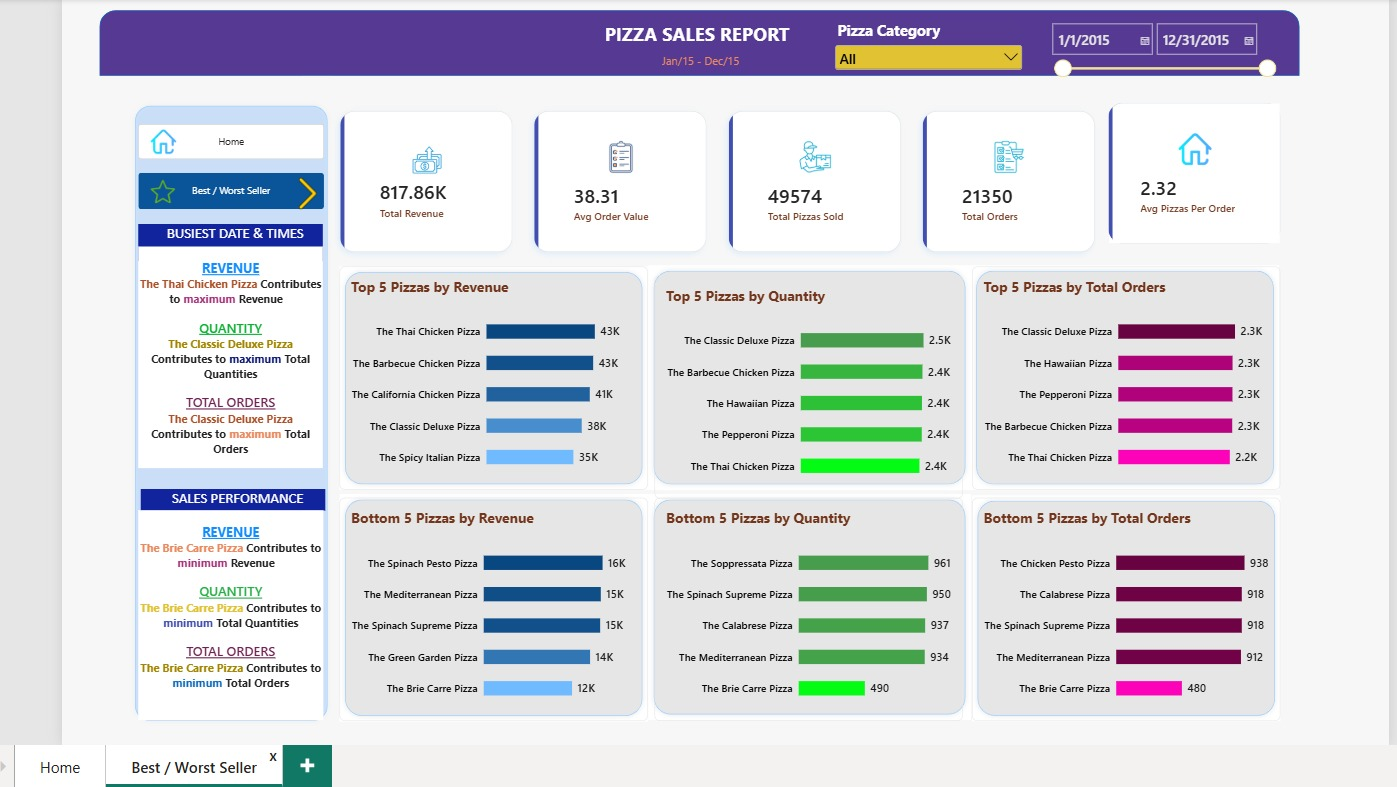

What the dashboard file says about the page in this screenshot:
{"tool":"powerbi","page":{"name":"Best / Worst Seller","canvas":[1920,1080],"ordinal":1},"visuals":[{"type":"cardVisual","fields":{"Data":["pizza_sales.Total Revenue","pizza_sales.Average Order Value","pizza_sales.Total Pizzas Sold","pizza_sales.Total Orders","pizza_sales.Average Pizzas Per Order"]},"box":[390.9,150.2,1398.3,228.8],"z":0},{"type":"shape","box":[54.2,16.9,1737.3,94.9],"z":1000},{"type":"textbox","box":[781.4,32.2,288.1,59.3],"z":2000},{"type":"textbox","box":[867.8,78,201.7,69.5],"z":3000},{"type":"shape","box":[1315.3,384.9,446.7,325.2],"z":10000},{"type":"shape","box":[98.3,147.5,294.9,906.8],"z":14000},{"type":"textbox","box":[111.1,325.2,267.6,53.5],"z":15000},{"type":"textbox","box":[111.1,358.1,267.6,321.1],"z":16000},{"type":"textbox","box":[113.2,710.1,267.6,30.9],"z":17000},{"type":"textbox","box":[111.1,741,267.8,304],"z":18000},{"type":"slicer","fields":{"Values":["pizza_sales.pizza_category"]},"box":[1115.6,30.9,279.9,94.7],"z":19000},{"type":"slicer","fields":{"Values":["pizza_sales.order_date"]},"box":[1426.4,30.9,335.5,94.7],"z":20000},{"type":"shape","box":[848,384.9,467.2,325.2],"z":20001},{"type":"shape","box":[401.4,387,446.7,323.2],"z":20002},{"type":"shape","box":[401.4,716.3,446.7,329.3],"z":20003},{"type":"shape","box":[848,716.3,467.2,327.3],"z":20004},{"type":"shape","box":[1317.3,718.4,446.7,327.3],"z":20005},{"type":"barChart","title":"Top 5 Pizzas by Revenue","fields":{"Category":["pizza_sales.pizza_name"],"Y":["pizza_sales.Total Revenue"]},"box":[401.4,387,446.7,323.2],"z":20006},{"type":"barChart","title":"Bottom 5 Pizzas by Revenue","fields":{"Category":["pizza_sales.pizza_name"],"Y":["pizza_sales.Total Revenue"]},"box":[401.4,722.5,446.7,323.2],"z":20007},{"type":"barChart","title":"Top 5 Pizzas by Quantity","fields":{"Category":["pizza_sales.pizza_name"],"Y":["pizza_sales.Total Pizzas Sold"]},"box":[858.3,399.3,446.7,323.2],"z":20008},{"type":"barChart","title":"Bottom 5 Pizzas by Quantity","fields":{"Category":["pizza_sales.pizza_name"],"Y":["pizza_sales.Total Pizzas Sold"]},"box":[858.3,722.5,446.7,323.2],"z":20009},{"type":"barChart","title":"Top 5 Pizzas by Total Orders","fields":{"Category":["pizza_sales.pizza_name"],"Y":["pizza_sales.Total Orders"]},"box":[1317.3,387,446.7,323.2],"z":20010},{"type":"barChart","title":"Bottom 5 Pizzas by Total Orders","fields":{"Category":["pizza_sales.pizza_name"],"Y":["pizza_sales.Total Orders"]},"box":[1317.3,722.5,446.7,323.2],"z":20011},{"type":"pageNavigator","box":[111.1,251.1,269.6,53.5],"z":20012},{"type":"pageNavigator","box":[111.1,181.1,269.6,51.5],"z":20013},{"type":"image","box":[127.6,181.1,37,51.5],"z":20014},{"type":"image","box":[333.4,251.1,45.3,59.7],"z":20015},{"type":"image","box":[127.6,253.2,35,51.5],"z":20016},{"type":"image","box":[705.8,27.1,76,68.8],"z":20017}]}

Visuals, with their boxes on the page's 1920x1080 design canvas (x1, y1, x2, y2). These are canvas units, not pixel positions in the 1397x787 screenshot, which may show the page scaled, cropped or inside an application window:
cardVisual - pizza_sales.Total Revenue x pizza_sales.Average Order Value: l=391, t=150, r=1789, b=379
shape: l=54, t=17, r=1792, b=112
textbox: l=781, t=32, r=1070, b=92
textbox: l=868, t=78, r=1070, b=148
shape: l=1315, t=385, r=1762, b=710
shape: l=98, t=148, r=393, b=1054
textbox: l=111, t=325, r=379, b=379
textbox: l=111, t=358, r=379, b=679
textbox: l=113, t=710, r=381, b=741
textbox: l=111, t=741, r=379, b=1045
slicer - pizza_sales.pizza_category: l=1116, t=31, r=1396, b=126
slicer - pizza_sales.order_date: l=1426, t=31, r=1762, b=126
shape: l=848, t=385, r=1315, b=710
shape: l=401, t=387, r=848, b=710
shape: l=401, t=716, r=848, b=1046
shape: l=848, t=716, r=1315, b=1044
shape: l=1317, t=718, r=1764, b=1046
"Top 5 Pizzas by Revenue" barChart: l=401, t=387, r=848, b=710
"Bottom 5 Pizzas by Revenue" barChart: l=401, t=722, r=848, b=1046
"Top 5 Pizzas by Quantity" barChart: l=858, t=399, r=1305, b=722
"Bottom 5 Pizzas by Quantity" barChart: l=858, t=722, r=1305, b=1046
"Top 5 Pizzas by Total Orders" barChart: l=1317, t=387, r=1764, b=710
"Bottom 5 Pizzas by Total Orders" barChart: l=1317, t=722, r=1764, b=1046
pageNavigator: l=111, t=251, r=381, b=305
pageNavigator: l=111, t=181, r=381, b=233
image: l=128, t=181, r=165, b=233
image: l=333, t=251, r=379, b=311
image: l=128, t=253, r=163, b=305
image: l=706, t=27, r=782, b=96
